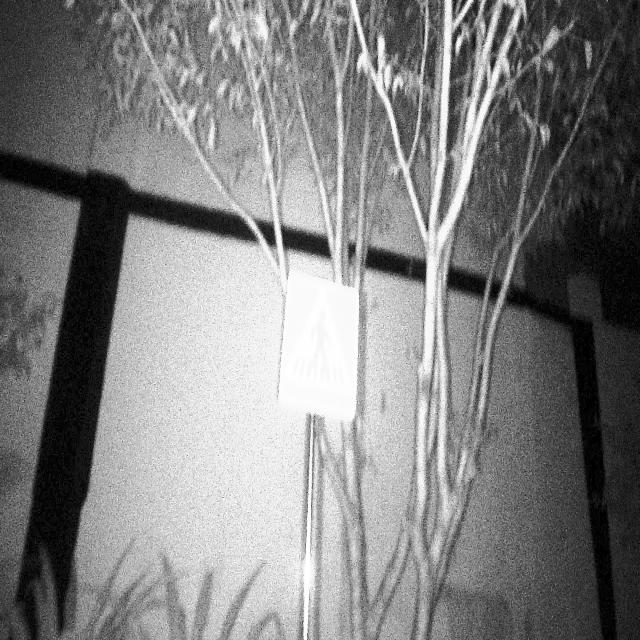Sign: (276, 267, 362, 425)
